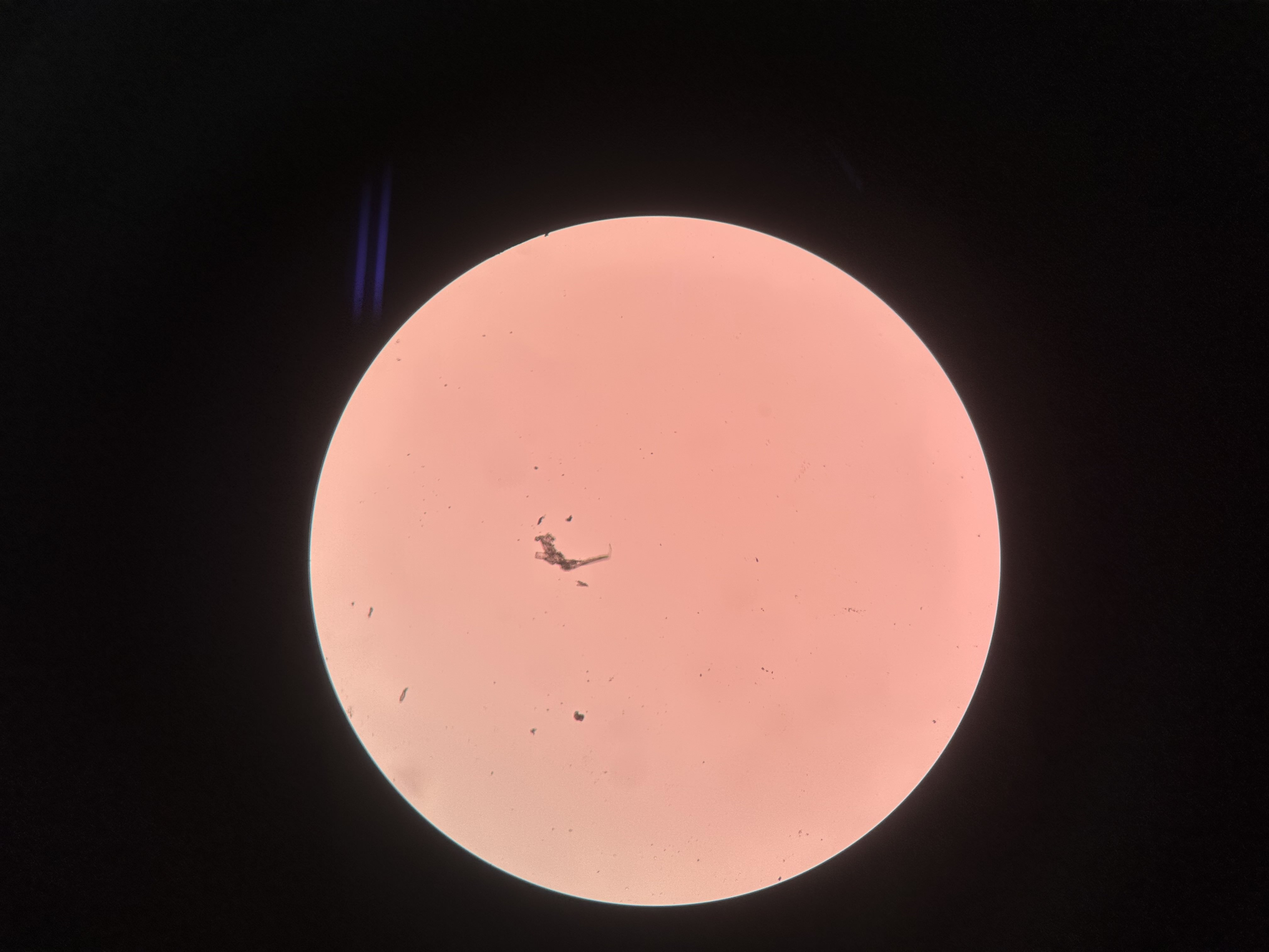not_microplastic: (534, 531, 617, 570), (396, 684, 414, 707), (568, 707, 586, 723), (534, 516, 547, 524), (567, 511, 572, 521)
